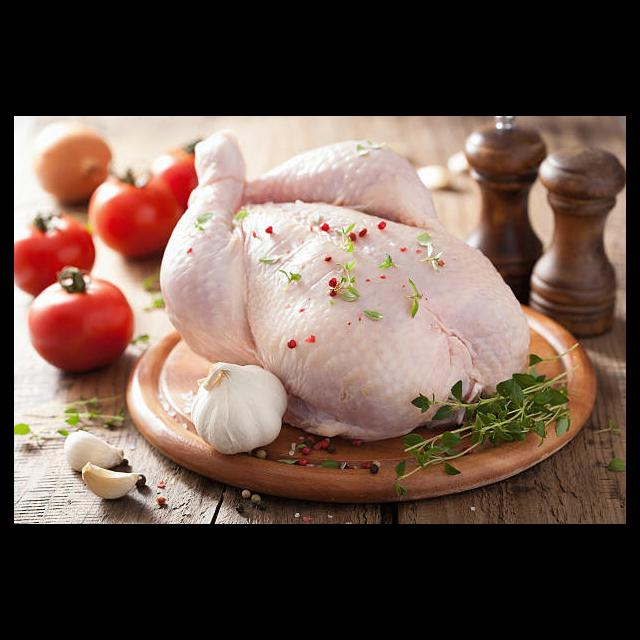chicken: (159, 131, 531, 443)
